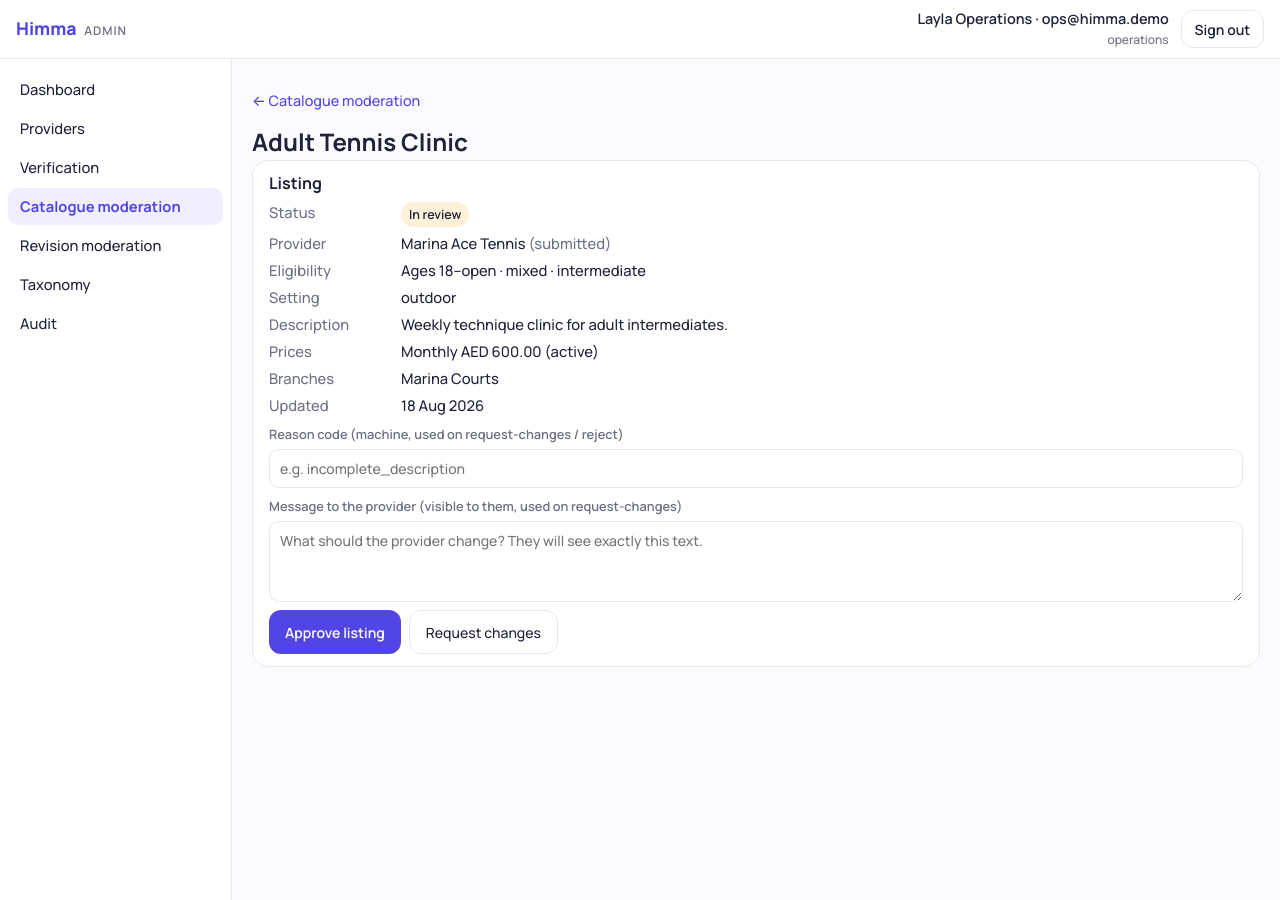
it: listing review decisions (task §2/§6) › request changes returns the listing to the provider with the machine reason code
The image size is (1280, 900).
Expected: the heading "Adult Tennis Clinic" is shown, [252, 125, 468, 158]
Type "incomplete_description" into the field labelled "Reason code (machine, used on request-changes / reject)".
click(756, 468); type("incomplete_description")  # box [269, 449, 1243, 488]
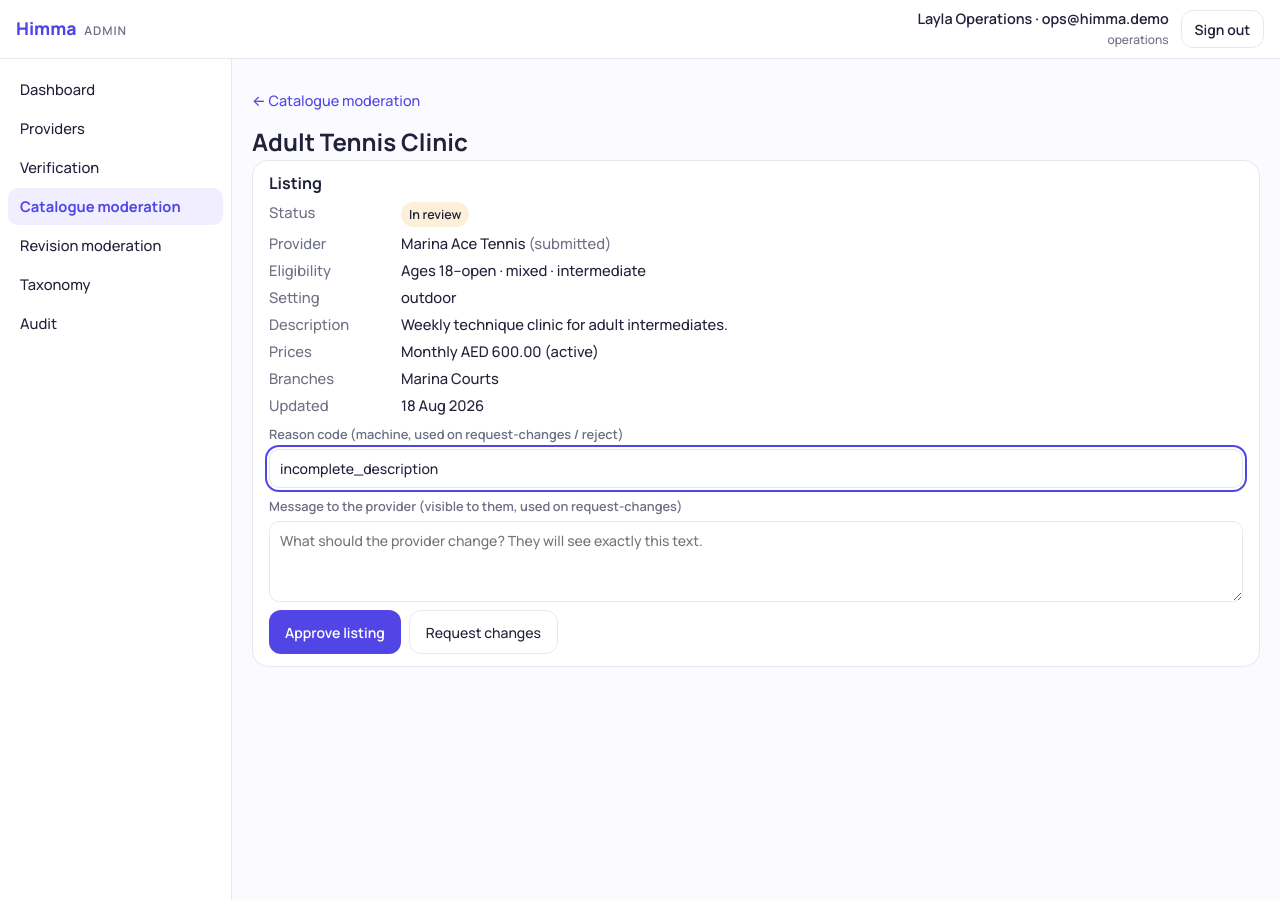
Note: W3-8: the reviewer-authored PROVIDER-VISIBLE correction text.
Type "Describe the weekly schedule." into the text box labelled "Message to the provider".
click(756, 562); type("Describe the weekly schedule.")  # box [269, 521, 1243, 602]
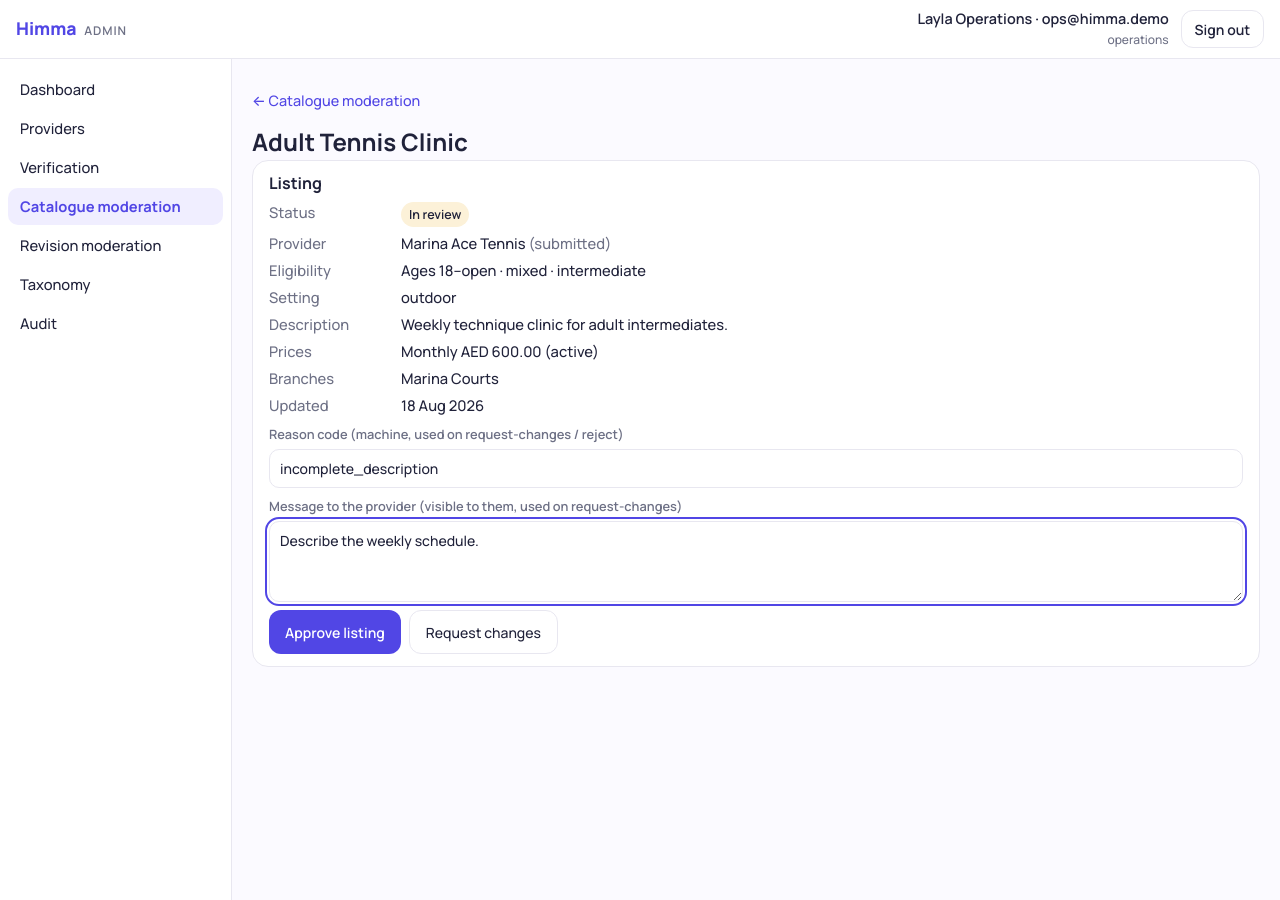
Click the button "Request changes".
click(483, 632)  # box [409, 610, 558, 654]
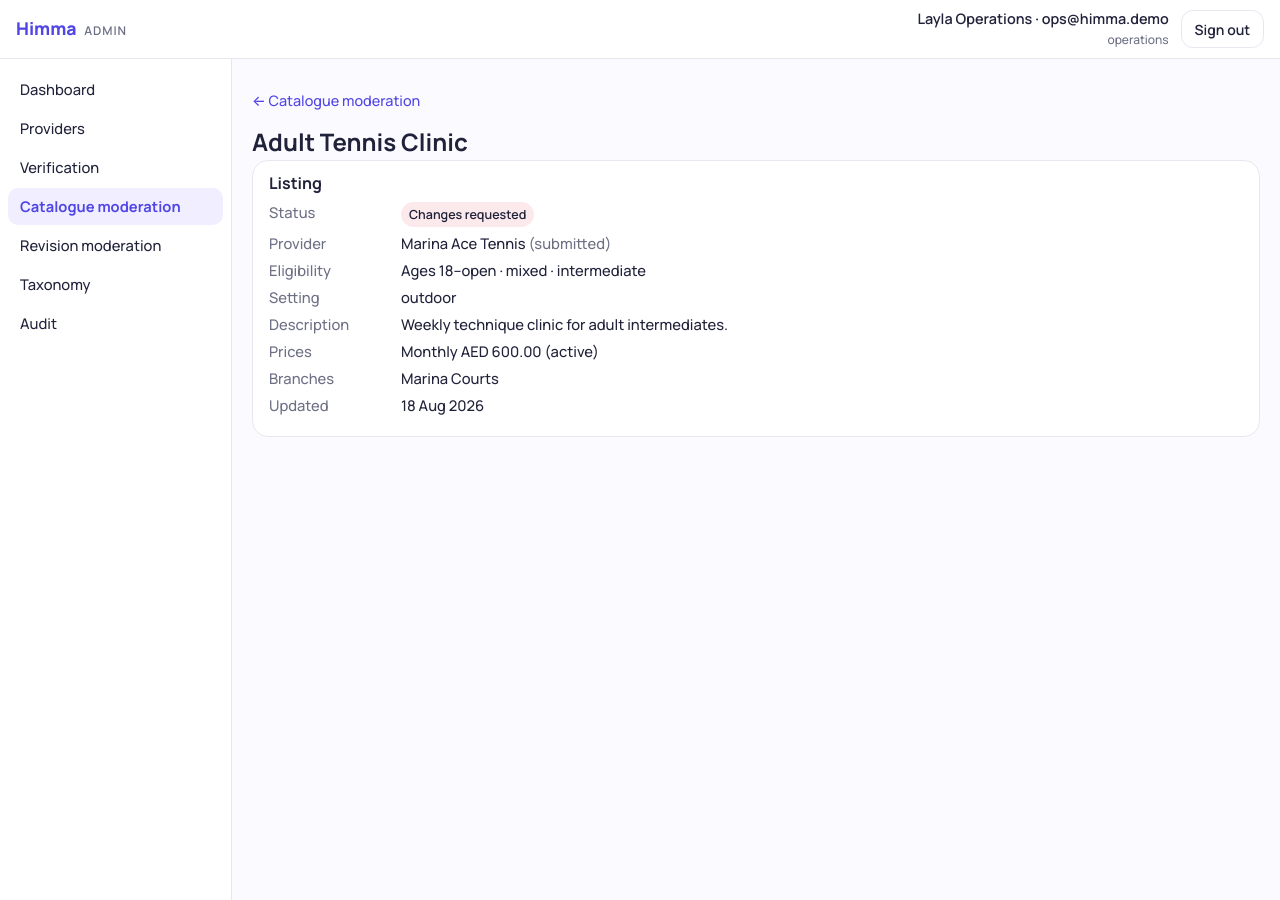
Expected: the text "Changes requested" is shown, [401, 202, 534, 227]
